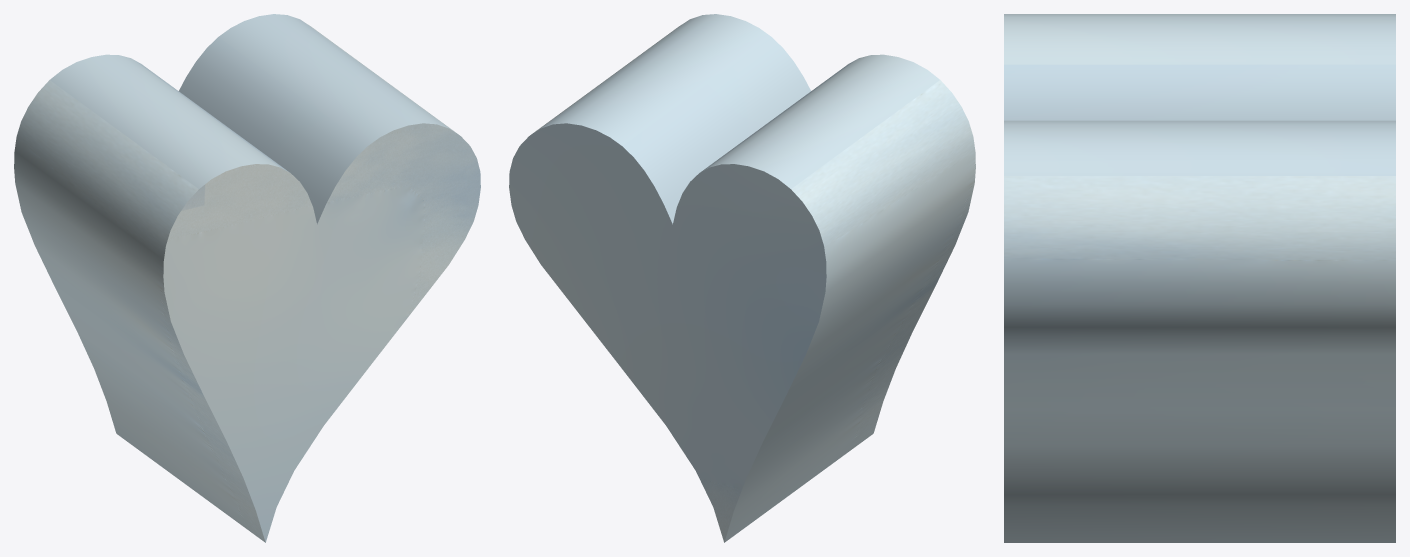
The model's file is heartTransformAnimation.glb.
3 renders of one model, left to right at view 1: azimuth 30°, elevation 25°; view 2: azimuth 150°, elevation 25°; view 3: azimuth 270°, elevation 25°, orthographic. The views are drawn at different scales.
Bounding box in the file's own units: 16.65 × 19.17 × 13.56.
Materials: 1 (1 with a texture image).
